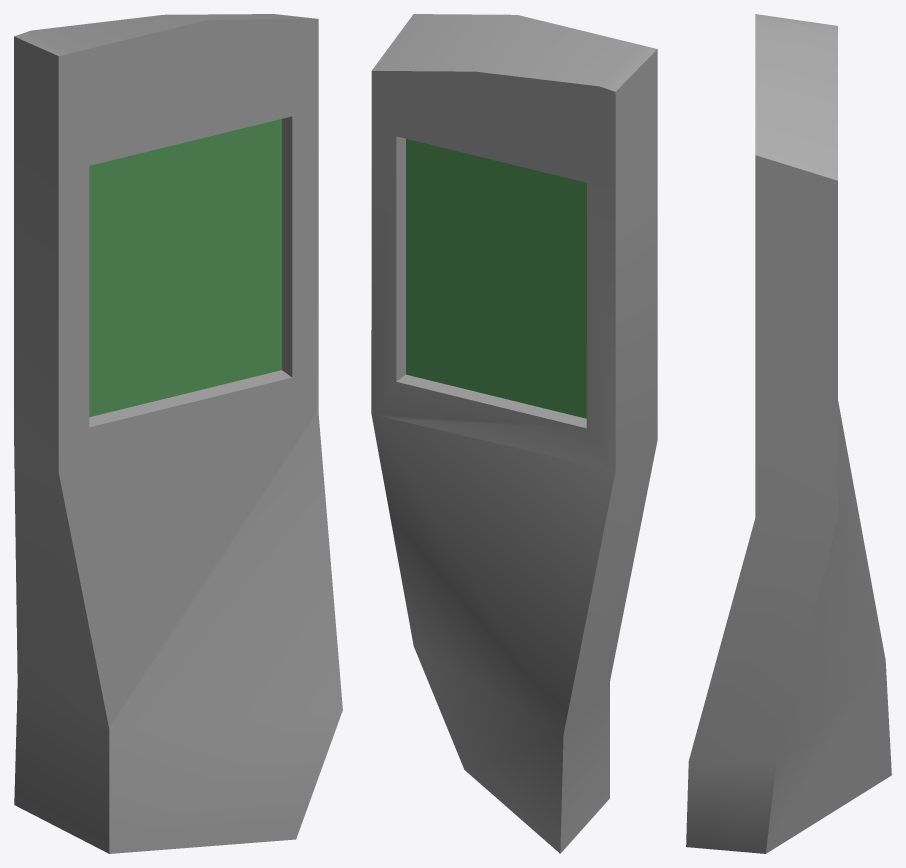
File: h_koorie_stand.fbx
3 views of the same model, side by side, from view 1: azimuth 30°, elevation 25°; view 2: azimuth 150°, elevation 25°; view 3: azimuth 270°, elevation 25° (orthographic). The views are drawn at different scales.
Parts seen in each view (by area): view 1: h_koorie_stand; view 2: h_koorie_stand; view 3: h_koorie_stand.
Boxes of the visible parts, x1,y1,x2,y2 form: h_koorie_stand: [14, 14, 342, 853]; h_koorie_stand: [371, 14, 657, 853]; h_koorie_stand: [686, 14, 891, 853].
Size of the model in its own units: 67.11 by 200 by 49.87.
